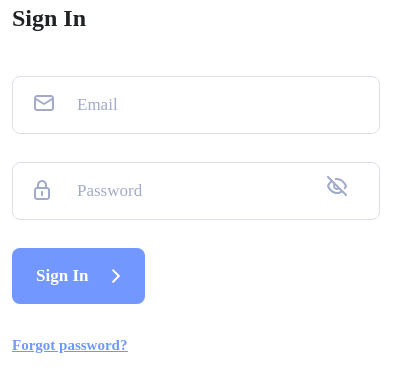
Test: Should render Form Sign In › should display matching error when email is invalid
The image size is (397, 370).
Type "test" into the field with placeholder "Email".
click(196, 105); type("test")  # box [12,76,380,134]
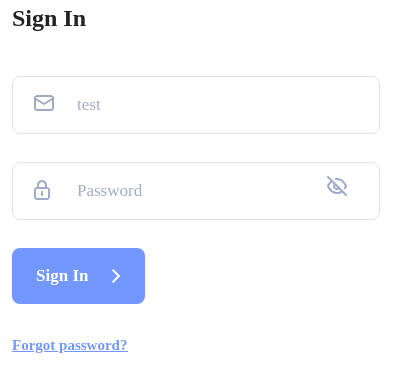
Type "password" into the password field with placeholder "Password".
click(196, 191); type("password")  # box [12,162,380,220]
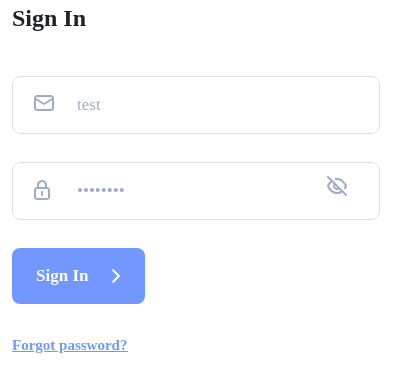
Submit the form from the button, box [12,248,146,304]
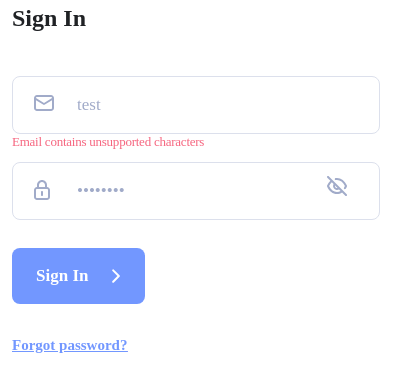
Check: the number of messages is 1, box [12,134,204,150]
